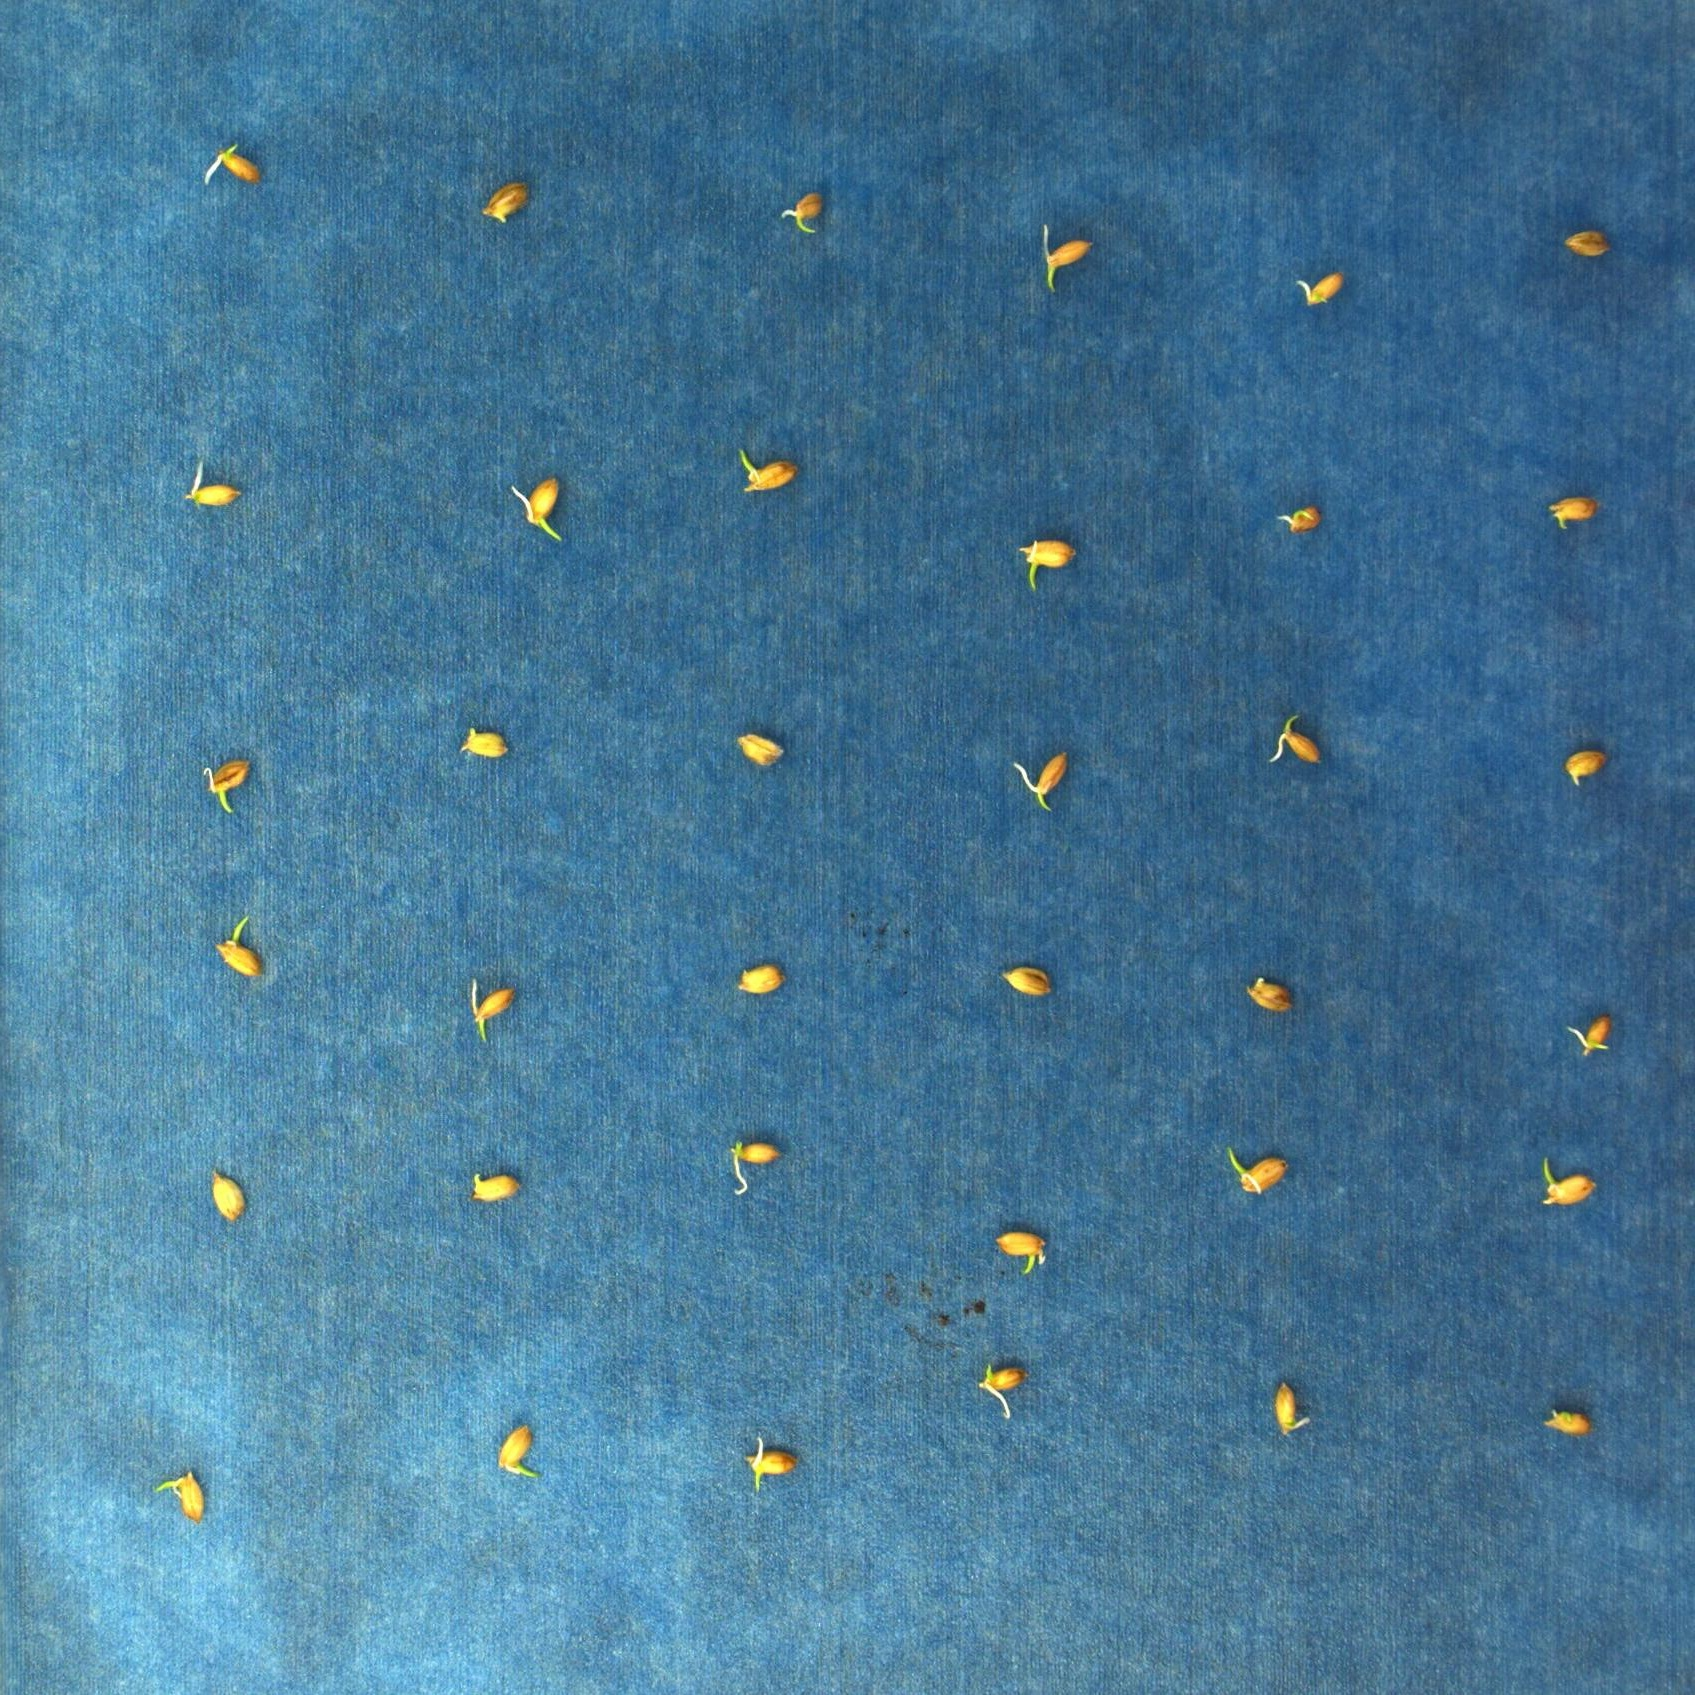not sprout: (1014, 748, 1071, 809), (726, 1138, 782, 1198), (972, 1358, 1024, 1420), (740, 1437, 798, 1492), (182, 459, 241, 512), (1265, 712, 1322, 765), (200, 141, 262, 186), (469, 1166, 525, 1208), (1273, 1378, 1310, 1440), (477, 182, 534, 220), (1565, 1014, 1614, 1055), (1288, 265, 1340, 304), (453, 726, 506, 764), (211, 1170, 244, 1225), (1565, 747, 1608, 785), (1245, 979, 1291, 1014), (1568, 228, 1614, 261), (1000, 967, 1048, 998), (1274, 508, 1326, 536), (737, 736, 785, 765), (734, 965, 784, 993), (1546, 498, 1593, 528), (1541, 1405, 1588, 1434)
sprout: (508, 477, 565, 546), (1035, 227, 1093, 287), (466, 976, 515, 1046), (1017, 537, 1080, 591), (213, 917, 265, 981), (734, 445, 799, 495), (1225, 1146, 1288, 1195), (1535, 1156, 1599, 1206), (492, 1423, 543, 1478), (993, 1226, 1046, 1277), (200, 759, 250, 812), (151, 1471, 205, 1515), (778, 192, 824, 237)
